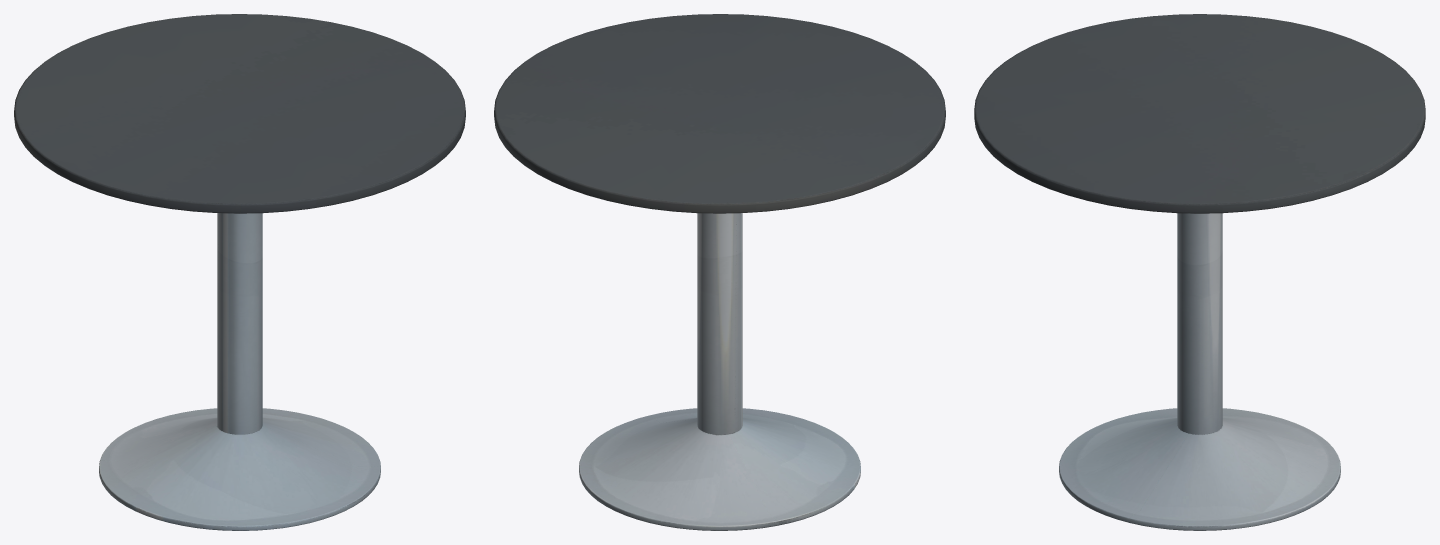
File: fermo_70_alufarben_70_frosted_glass_laquered_metal.glb
3 renders of one model, left to right at view 1: azimuth 30°, elevation 25°; view 2: azimuth 150°, elevation 25°; view 3: azimuth 270°, elevation 25°, orthographic.
Visible parts, largest first — view 1: fermo_70_alufarben_o80-grey; view 2: fermo_70_alufarben_o80-grey; view 3: fermo_70_alufarben_o80-grey.
Part boxes in pixels (x1=…): fermo_70_alufarben_o80-grey: x1=14, y1=14, x2=465, y2=530; fermo_70_alufarben_o80-grey: x1=494, y1=14, x2=945, y2=530; fermo_70_alufarben_o80-grey: x1=974, y1=14, x2=1425, y2=530.
Bounding box in the file's own units: 0.8004 × 0.7097 × 0.8004.
Materials: 1 (1 with a texture image).
